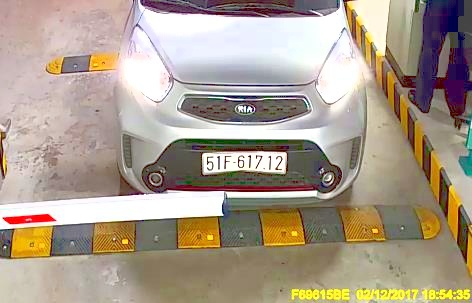plate: (200, 146, 287, 180)
